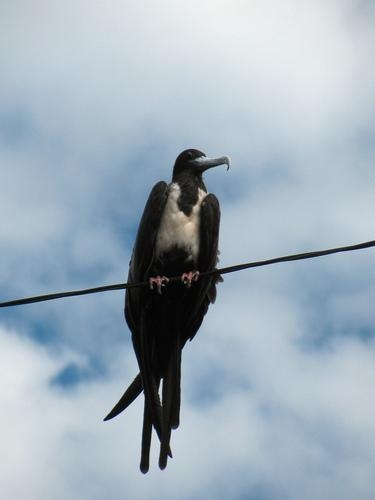bird: (109, 144, 237, 464)
